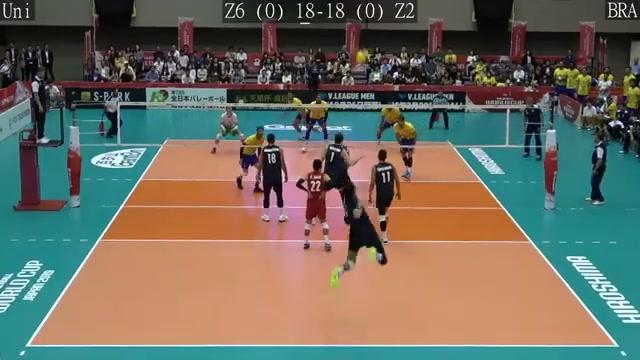ball: (354, 50, 369, 65)
